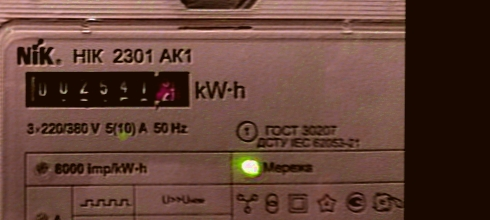0: (36, 76, 49, 97), (57, 74, 69, 95)
1: (138, 73, 149, 96)
2: (77, 73, 91, 95)
4: (118, 73, 129, 94)
5: (97, 73, 110, 97)
6: (160, 89, 171, 101)
screen: (13, 60, 203, 115)
